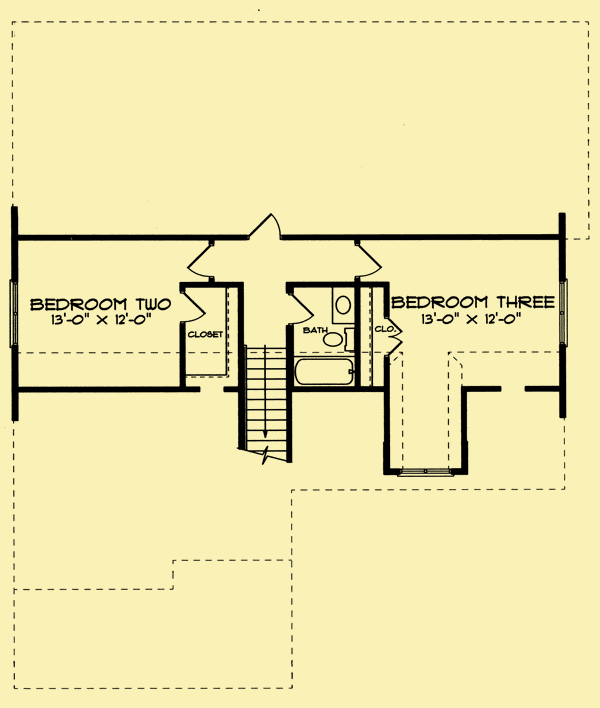door: (184, 242, 222, 283), (349, 241, 388, 280), (247, 209, 289, 245), (283, 288, 318, 329), (381, 310, 406, 365), (173, 289, 209, 327)
large sink: (321, 326, 359, 354)
small sink: (4, 274, 22, 354), (327, 284, 353, 327)
stairs: (237, 344, 292, 468)
tub: (291, 353, 358, 392)
windows: (555, 276, 572, 352), (398, 462, 459, 480)
